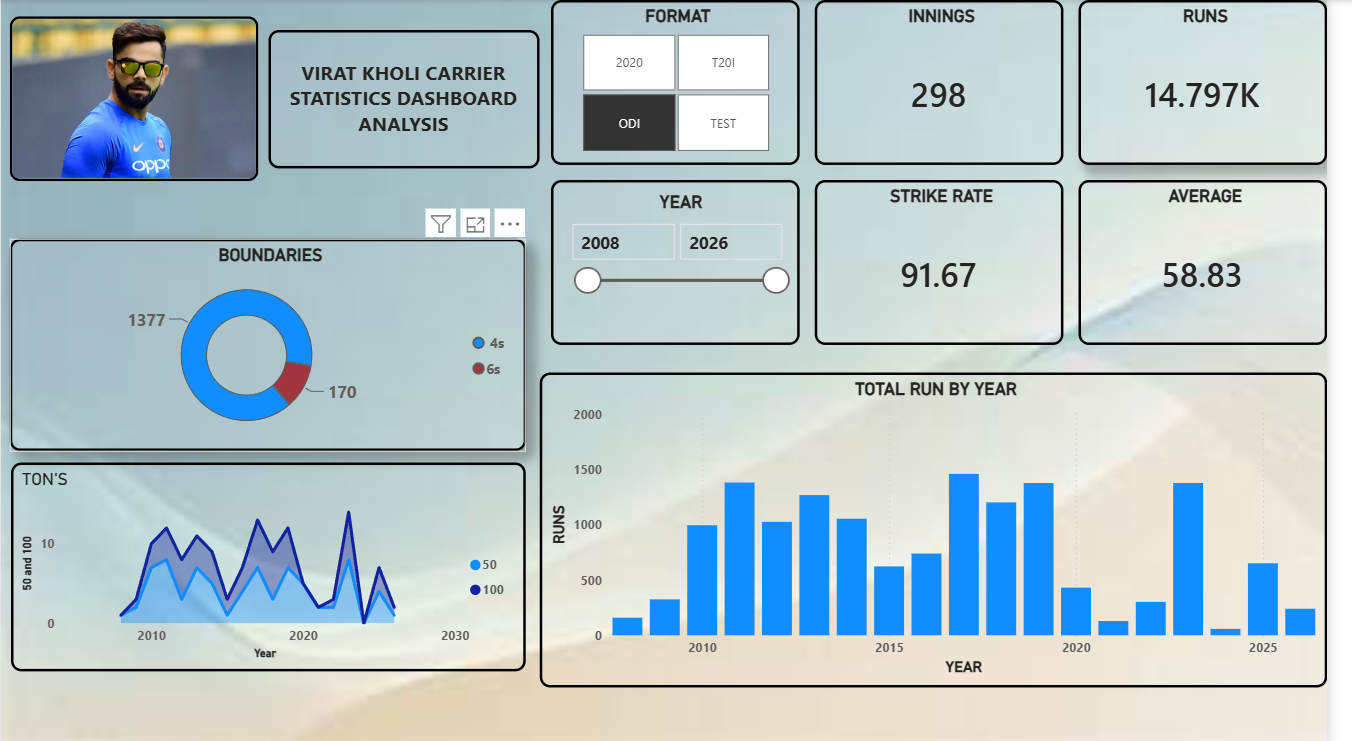

This screenshot's page, from the dashboard's own definition file:
{"tool":"powerbi","page":{"name":"Page 1","canvas":[1280,720],"ordinal":0},"visuals":[{"type":"image","box":[8.4,15.7,240.1,159.3],"z":0},{"type":"textbox","box":[258.2,29,261.8,133.9],"z":1000},{"type":"cardVisual","title":"INNINGS","fields":{"Data":["Sum(Sheet1.Innings)"]},"box":[785.4,0,240.1,159.3],"z":2000},{"type":"cardVisual","title":"RUNS","fields":{"Data":["Sum(Sheet1.Runs)"]},"box":[1040,0,240.1,159.3],"z":3000},{"type":"cardVisual","title":"STRIKE RATE","fields":{"Data":["Avg(Sheet1.SR)"]},"box":[785.4,173.7,240.1,159.3],"z":4000},{"type":"cardVisual","title":"AVERAGE","fields":{"Data":["Avg(Sheet1.Avg)"]},"box":[1040,173.7,240.1,159.3],"z":5000},{"type":"slicer","title":"FORMAT","fields":{"Values":["Sheet1.FORMAT"]},"box":[530.8,0,240.1,159.3],"z":6000},{"type":"slicer","title":"YEAR","fields":{"Values":["Sheet1.Year"]},"box":[530.8,173.7,240.1,159.3],"z":7000},{"type":"clusteredColumnChart","title":"TOTAL RUN BY YEAR","fields":{"Y":["Sum(Sheet1.Runs)"],"Category":["Sheet1.Year"]},"box":[520,359.5,760.1,304],"z":8000},{"type":"donutChart","title":"BOUNDARIES","fields":{"Y":["Sum(Sheet1.4s)","Sum(Sheet1.6s)"]},"box":[8.4,230.4,498.3,205.1],"z":8001},{"type":"stackedAreaChart","title":"TON''S","fields":{"Y":["Sum(Sheet1.50)","Sum(Sheet1.100)"],"Category":["Sheet1.Year"]},"box":[9.7,446.4,497.1,201.5],"z":8002}]}

Visuals, with their boxes in screenshot pixels (x1, y1, x2, y2), scaled from the page's 1280x720 canvas onto the 1352x741 screenshot:
image: crop(9, 16, 262, 180)
textbox: crop(273, 30, 549, 168)
"INNINGS" cardVisual: crop(830, 0, 1083, 164)
"RUNS" cardVisual: crop(1098, 0, 1351, 164)
"STRIKE RATE" cardVisual: crop(830, 179, 1083, 343)
"AVERAGE" cardVisual: crop(1098, 179, 1351, 343)
"FORMAT" slicer: crop(561, 0, 814, 164)
"YEAR" slicer: crop(561, 179, 814, 343)
"TOTAL RUN BY YEAR" clusteredColumnChart: crop(549, 370, 1351, 683)
"BOUNDARIES" donutChart: crop(9, 237, 535, 448)
"TON''S" stackedAreaChart: crop(10, 459, 535, 667)
